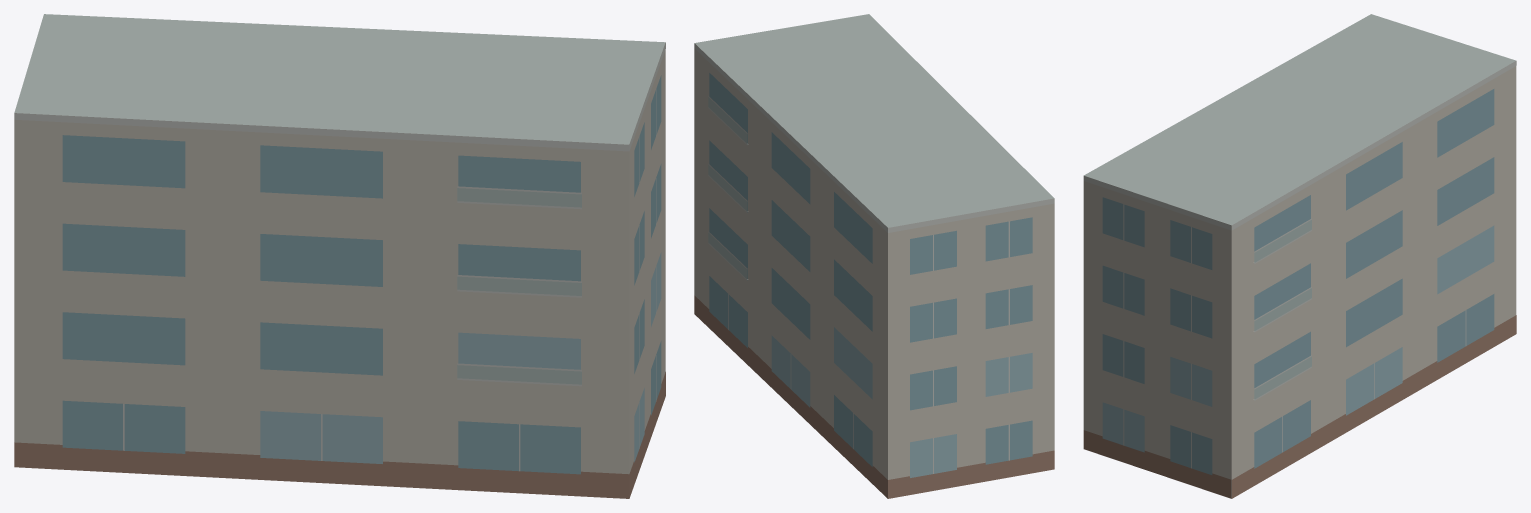
Rendered from survey-upis-32918040.glb.
The picture shows the model from 3 angles, left to right: view 1: azimuth 30°, elevation 25°; view 2: azimuth 150°, elevation 25°; view 3: azimuth 270°, elevation 25°; orthographic projection. The views are drawn at different scales.
Parts seen in each view (by area): view 1: survey-upis-32918040.tmp; view 2: survey-upis-32918040.tmp; view 3: survey-upis-32918040.tmp.
Part boxes in pixels (<box>): survey-upis-32918040.tmp: <box>14,14,665,498</box>; survey-upis-32918040.tmp: <box>694,14,1054,498</box>; survey-upis-32918040.tmp: <box>1083,14,1516,498</box>.
Size of the model in its own units: 21.23 by 12.8 by 18.37.
